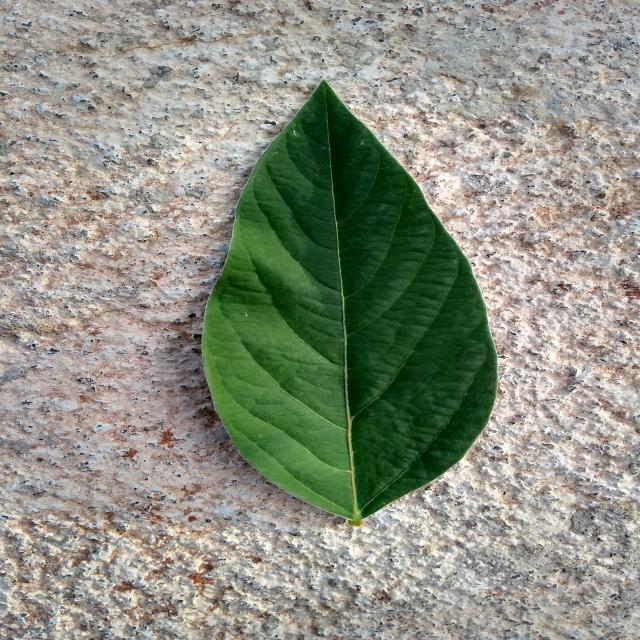pea: (202, 81, 498, 526)
